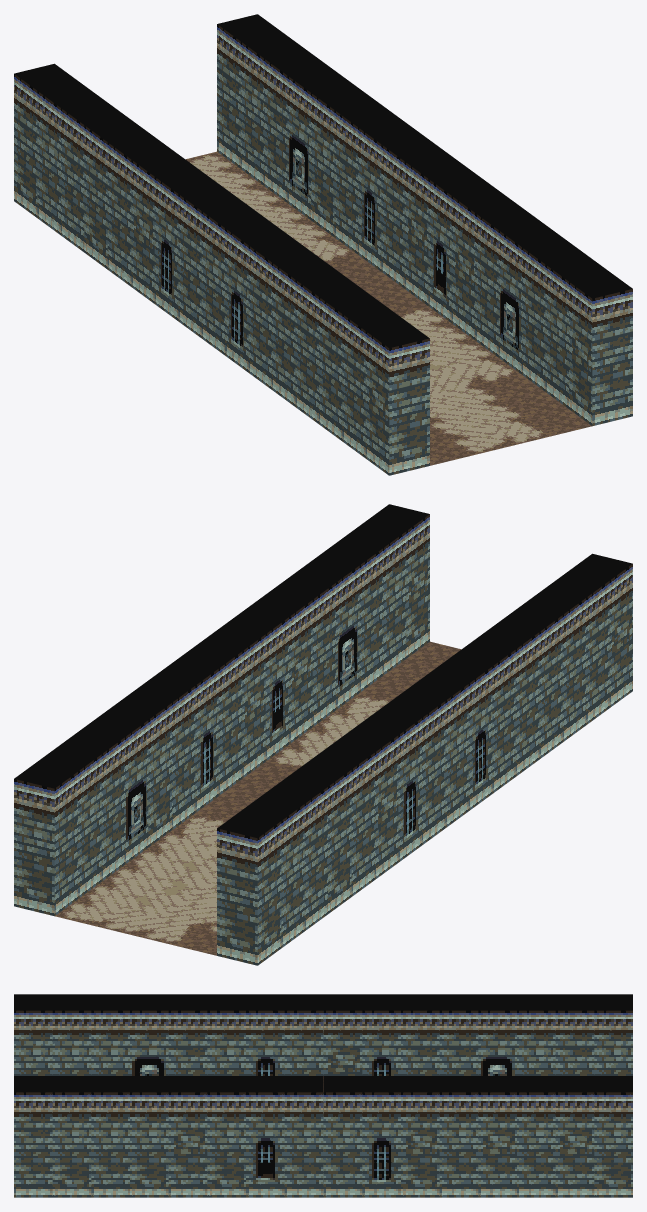
Rendered from room-sn-1-col.gltf.
The picture shows the model from 3 angles, top to bottom: view 1: azimuth 30°, elevation 25°; view 2: azimuth 150°, elevation 25°; view 3: azimuth 270°, elevation 25°; orthographic projection. The views are drawn at different scales.
Visible parts, largest first — view 1: room-sn-1-col; view 2: room-sn-1-col; view 3: room-sn-1-col.
Part boxes in pixels (x1,y1,x2,y2): room-sn-1-col: (14, 14, 632, 475); room-sn-1-col: (14, 504, 632, 965); room-sn-1-col: (14, 994, 632, 1197).
Size of the model in its own units: 6 by 3 by 16.
Materials: 1 (1 with a texture image).
